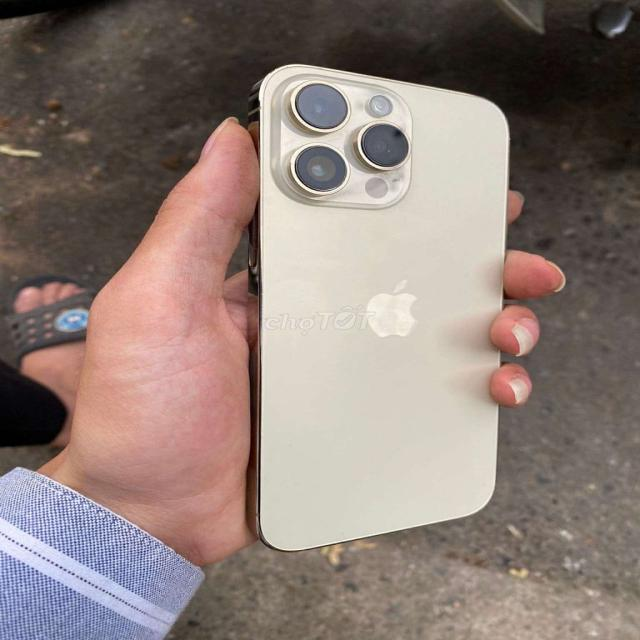gen_14: (236, 49, 517, 554)
